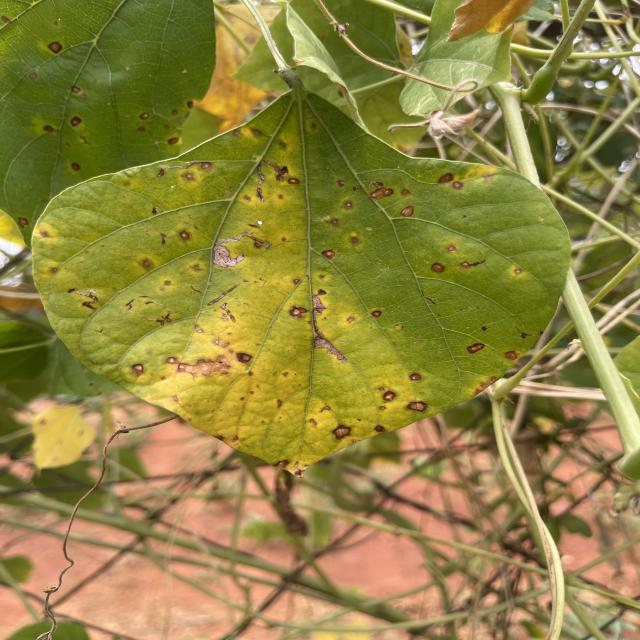Dolicos bean_cercospora leaf spot: (24, 96, 568, 466)
